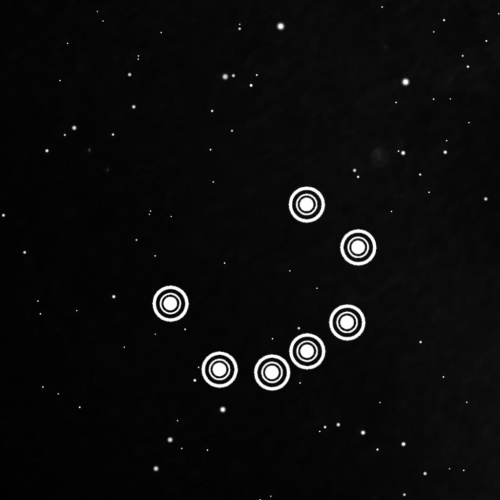corona_borealis: (148, 182, 383, 394)
